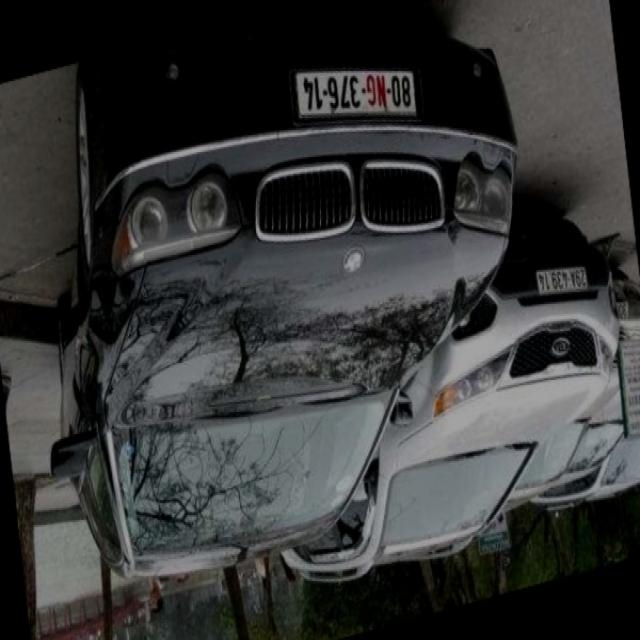bien_ngoai_giao: (296, 68, 422, 119)
bien_trang: (534, 262, 591, 303)
